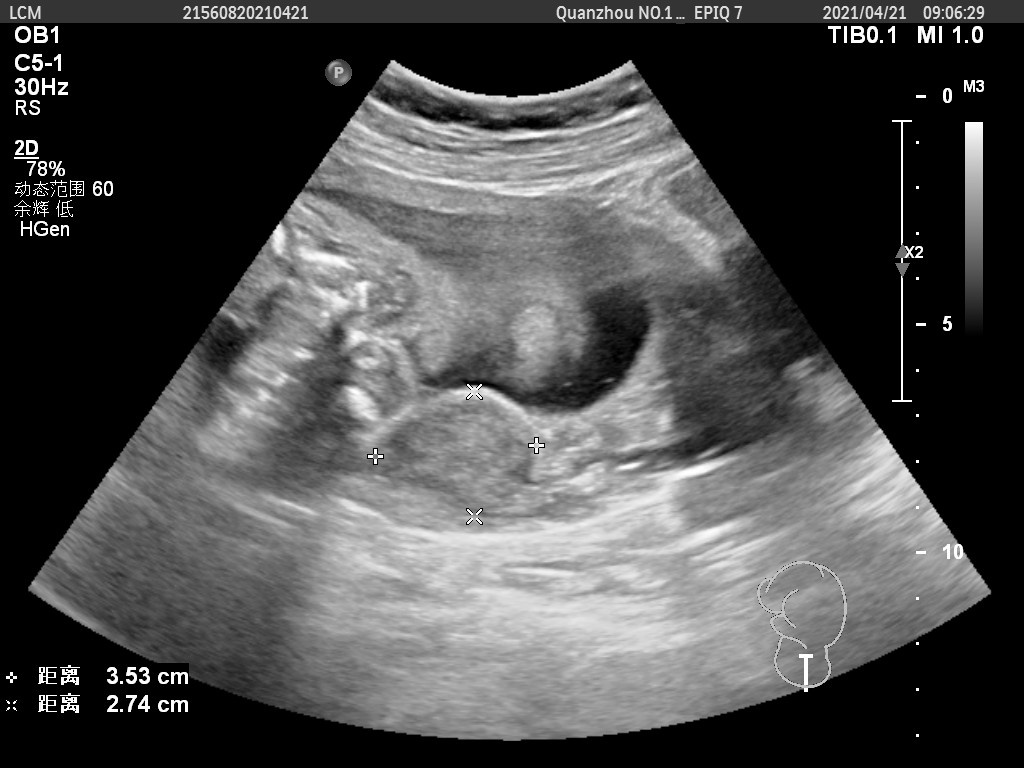肌瘤: (395, 413, 529, 511)
